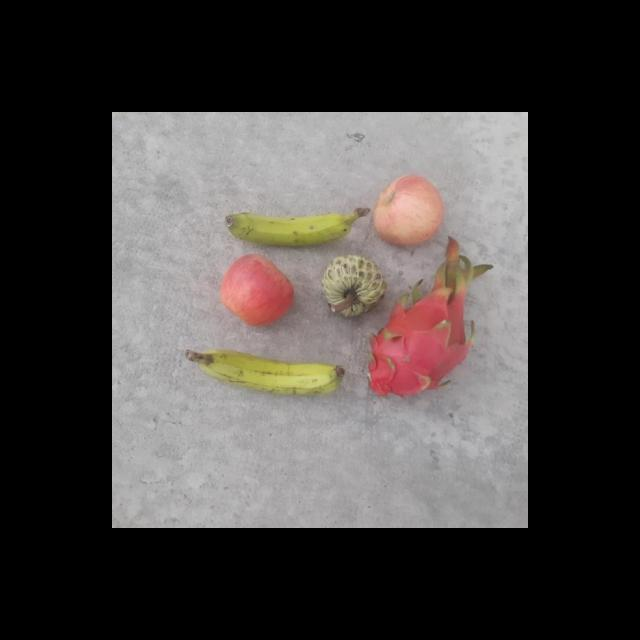Sakya fruit: (319, 252, 392, 320)
apple: (369, 172, 447, 249), (218, 252, 292, 330)
banana: (198, 340, 346, 401), (224, 196, 356, 248)
pitaya: (358, 266, 443, 358)
